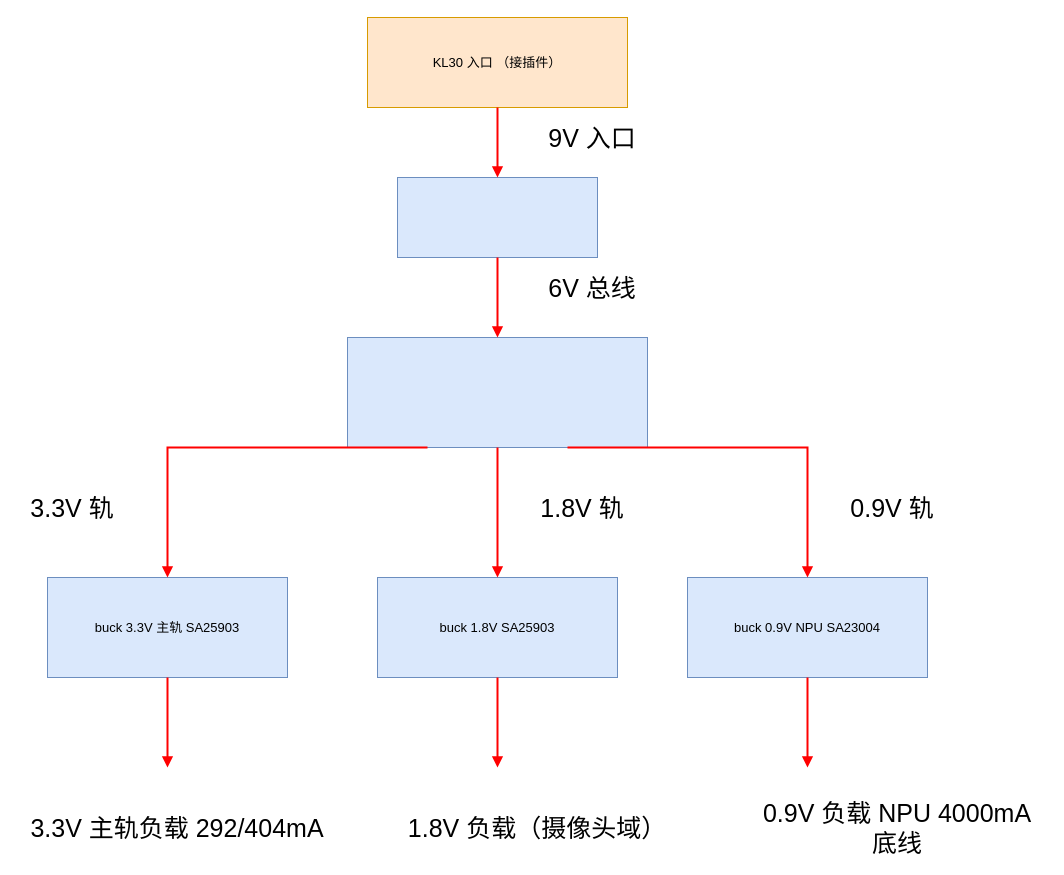
Some shapes in this 1064 by 875 pixel diagram are drawn without their labels. The shapes that lost their labels are listed below. From the top down, each one's centre as x and y in pixels, then its label:
At [497,217]: "D1 防反二极管".
At [497,392]: "一级 buck 6V SA24506E".
